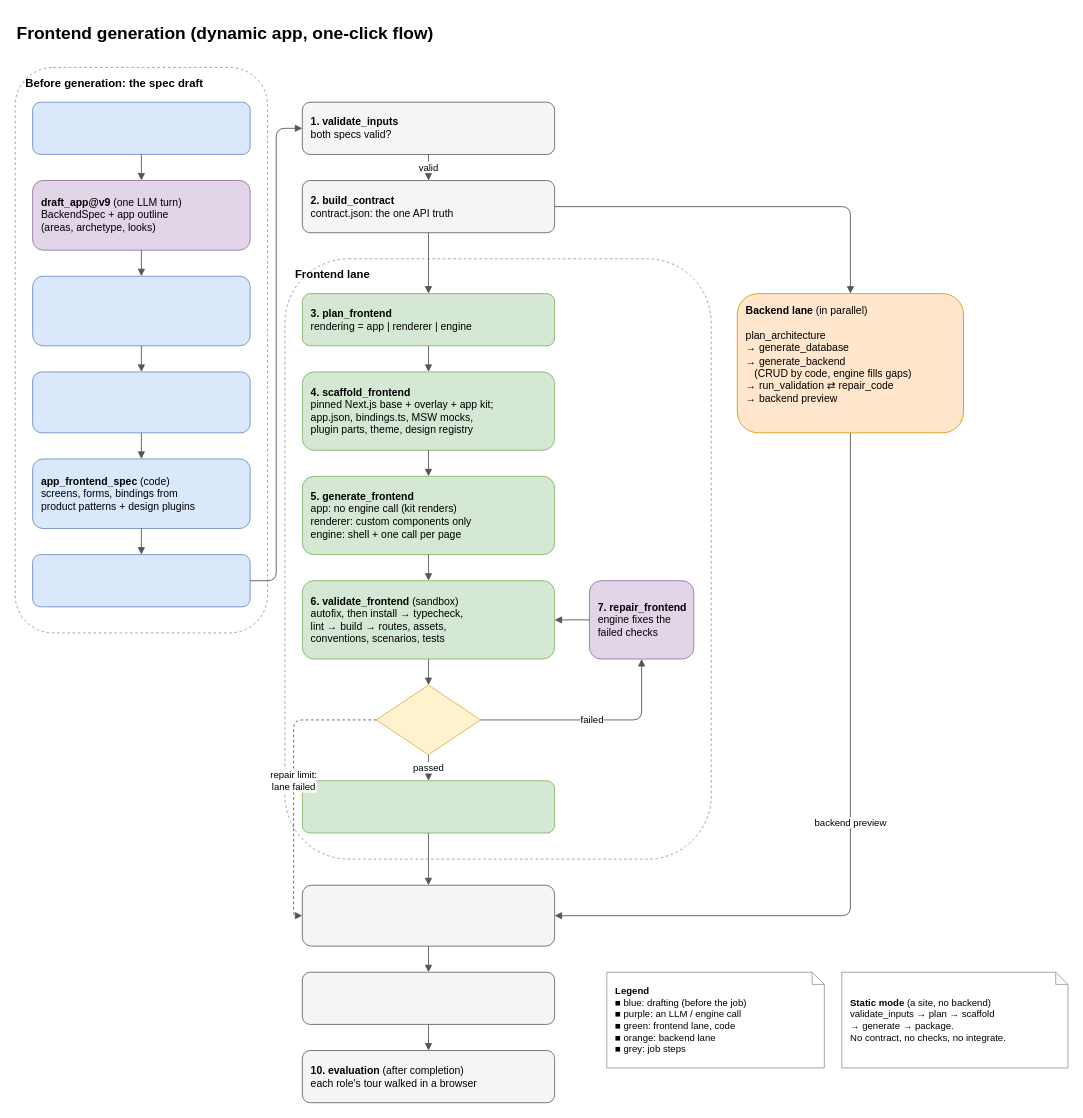
This 1083x1118 diagram has some shape labels left out. Each missing label, with the centre of its shape:
8. integrate backend up? switch frontend to the live API, else keep the mocks: point 428,915
9. package_artifacts frontend.zip, runtime image, report: point 428,997
checks pass?: point 428,719
Code fixes defaults, person links, media, access rules; repair_spec if invalid: point 141,310
complete_outline + ensure_aggregates (dashboard figures): point 141,402
Frontend preview running on the mocks: point 428,806
FrontendSpec + BackendSpec → Generate: point 141,580
Requirement typed in the UI (one-click): point 141,127
